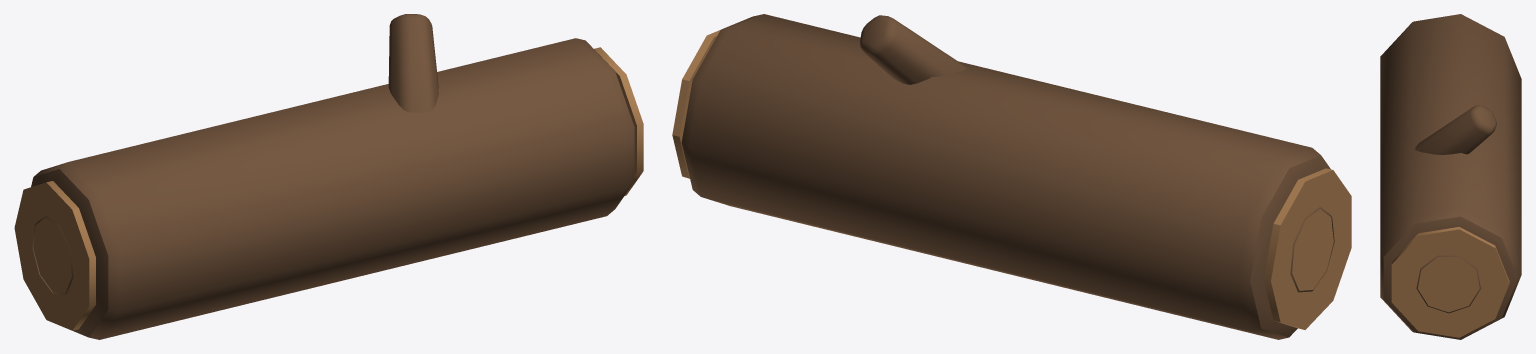
Rendered from Log.fbx.
The picture shows the model from 3 angles, left to right: view 1: azimuth 30°, elevation 25°; view 2: azimuth 150°, elevation 25°; view 3: azimuth 270°, elevation 25°; orthographic projection. The views are drawn at different scales.
Parts seen in each view (by area): view 1: Log; view 2: Log; view 3: Log.
Part boxes in pixels (x1=…): Log: x1=14, y1=14, x2=643, y2=339; Log: x1=672, y1=14, x2=1351, y2=339; Log: x1=1380, y1=14, x2=1521, y2=339.
Bounding box in the file's own units: 1.66 × 0.629 × 0.4655.
